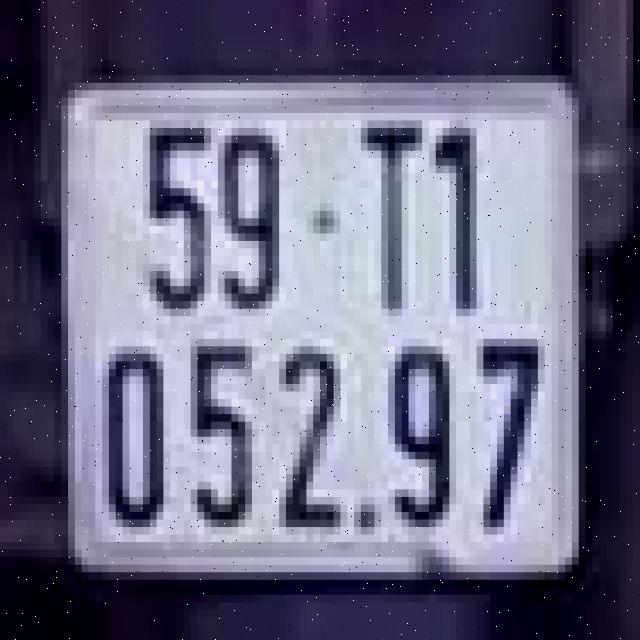0: (92, 342, 174, 530)
1: (429, 113, 490, 316)
2: (266, 335, 347, 531)
5: (180, 327, 269, 531), (140, 117, 214, 320)
7: (470, 331, 544, 535)
9: (378, 335, 466, 531), (218, 113, 286, 324)
T: (347, 105, 429, 324)
